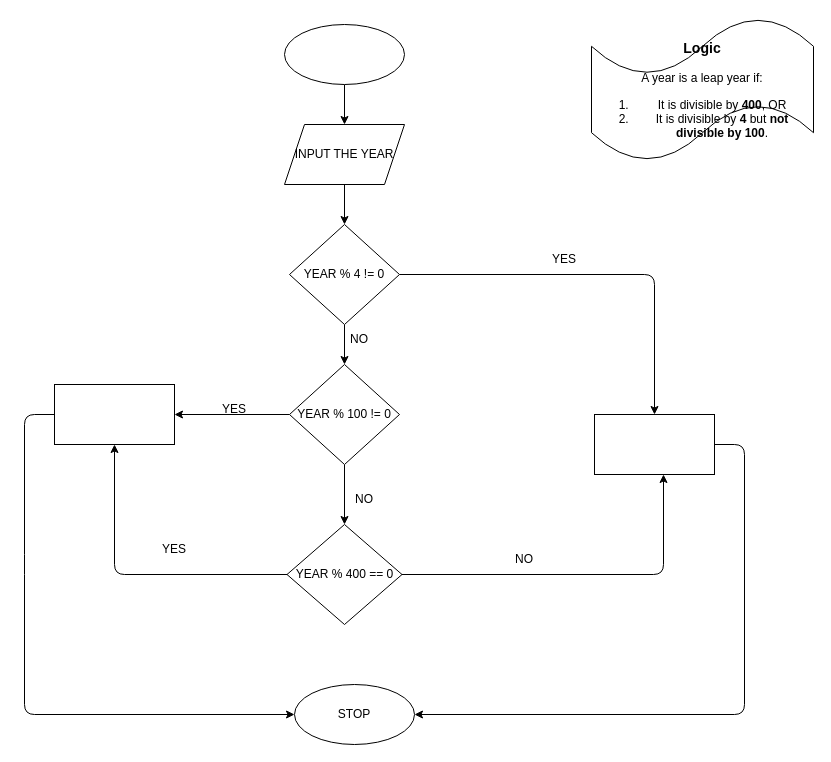
The diagram is 831 pixels wide and 762 high, and some of its shapes have lost their labels. Each missing label, with the centre of its shape:
"LEAP YEAR" goes at (114,414).
"NOT A LEAP YEAR" goes at (654,444).
"START" goes at (344,54).
